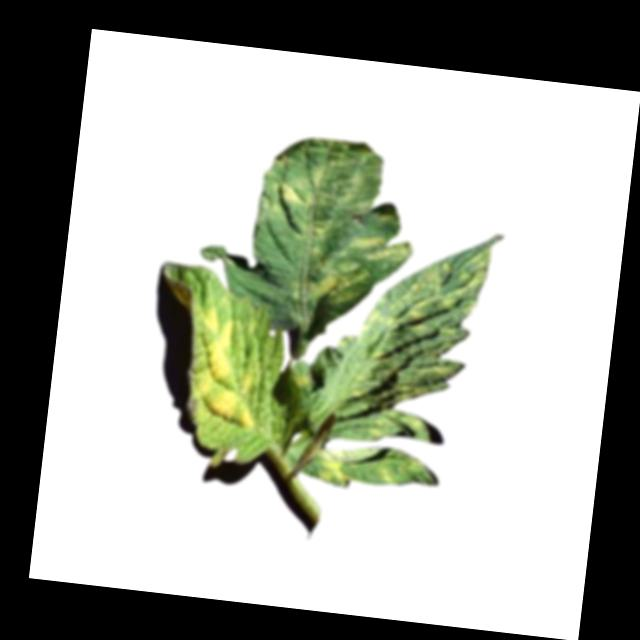Leaf_Mold: (333, 229, 493, 455), (187, 300, 270, 428), (307, 227, 412, 308), (269, 156, 323, 214), (315, 451, 347, 481)
